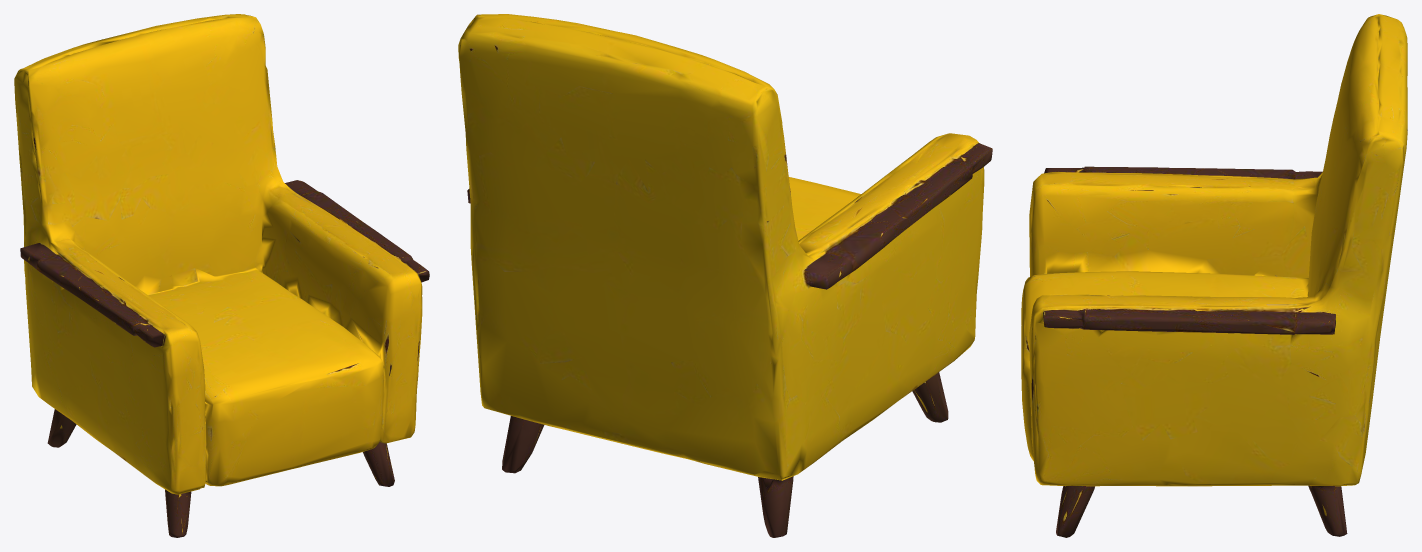
File: armchair.glb
3 renders of one model, left to right at view 1: azimuth 30°, elevation 25°; view 2: azimuth 150°, elevation 25°; view 3: azimuth 270°, elevation 25°, orthographic. The views are drawn at different scales.
Bounding box in the file's own units: 1.51 × 1.9 × 1.61.
Materials: 1 (1 with a texture image).
